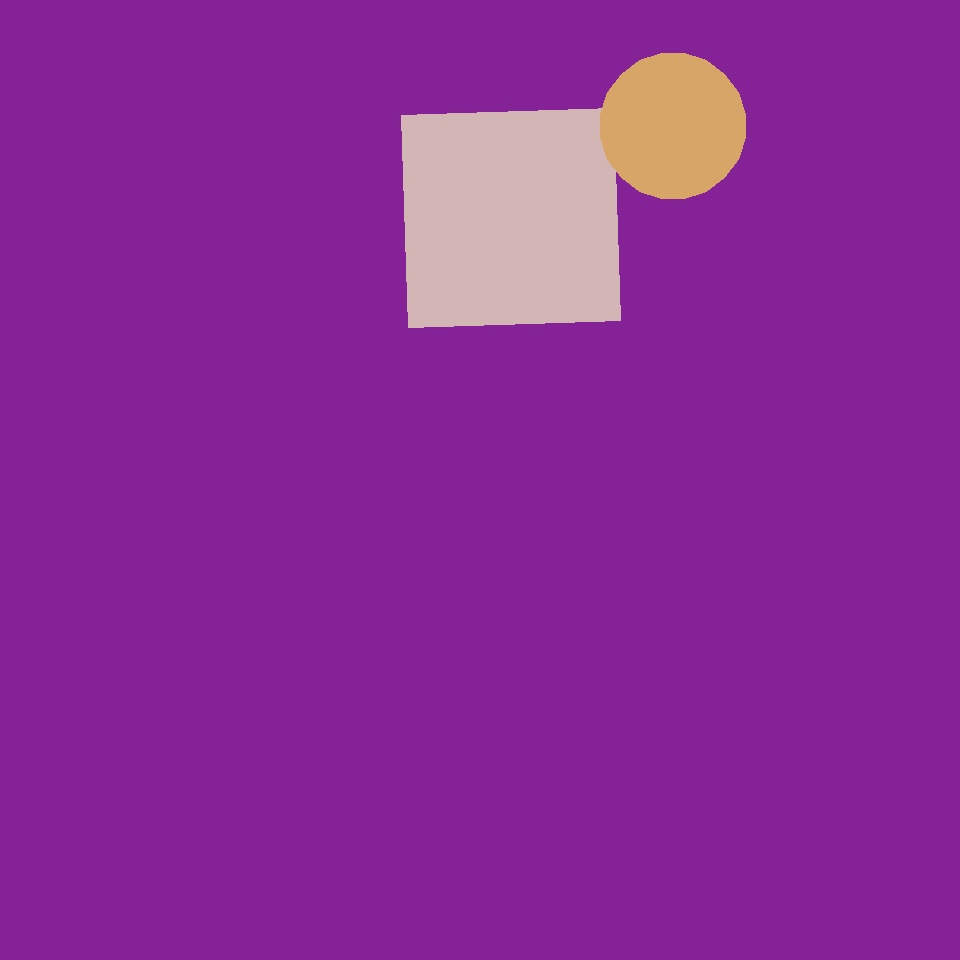circle: (683, 623, 930, 852), (434, 256, 657, 492)
square: (402, 108, 620, 328), (183, 744, 324, 884)
triangle: (314, 496, 508, 690), (354, 274, 521, 441), (600, 54, 746, 198)
